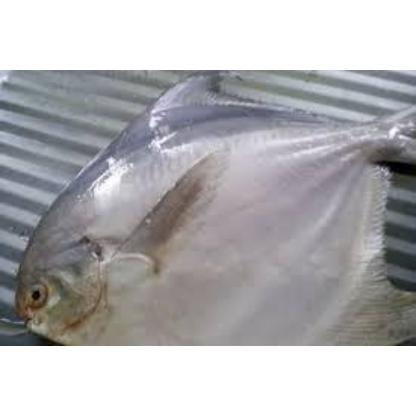ikan-pacu: (15, 77, 412, 344)
